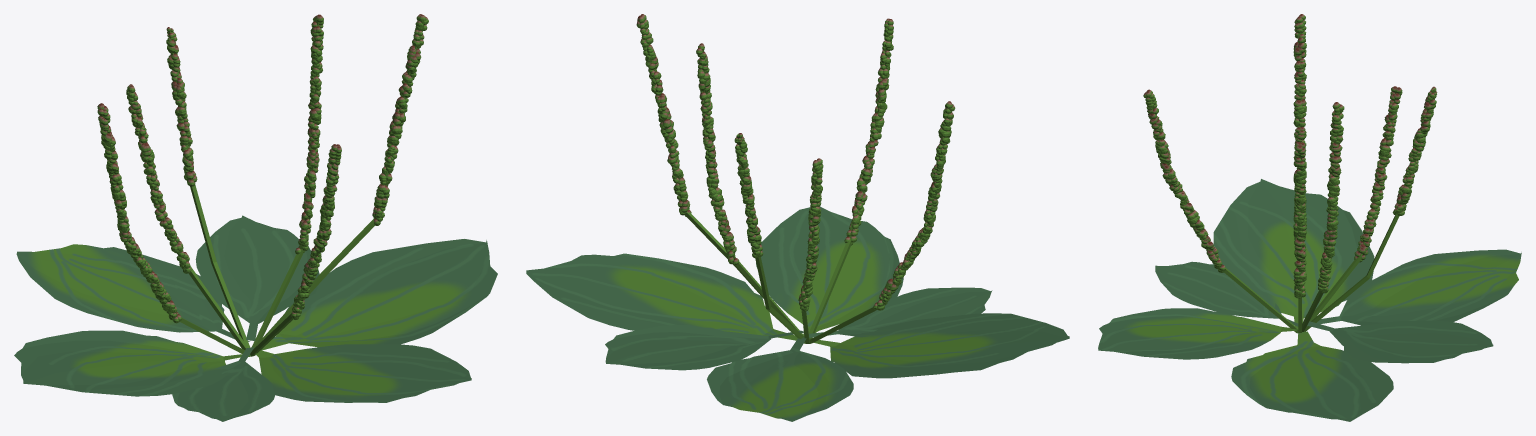
The model's file is broadleaf-plantain.fbx.
The picture shows the model from 3 angles, left to right: view 1: azimuth 30°, elevation 25°; view 2: azimuth 150°, elevation 25°; view 3: azimuth 270°, elevation 25°; orthographic projection. The views are drawn at different scales.
Parts seen in each view (by area): view 1: Cube; view 2: Cube; view 3: Cube.
Boxes of the visible parts, bbox=[...] form: Cube: bbox=[14, 14, 497, 421]; Cube: bbox=[526, 14, 1069, 421]; Cube: bbox=[1098, 14, 1521, 421].
Size of the model in its own units: 716 by 405 by 578.
